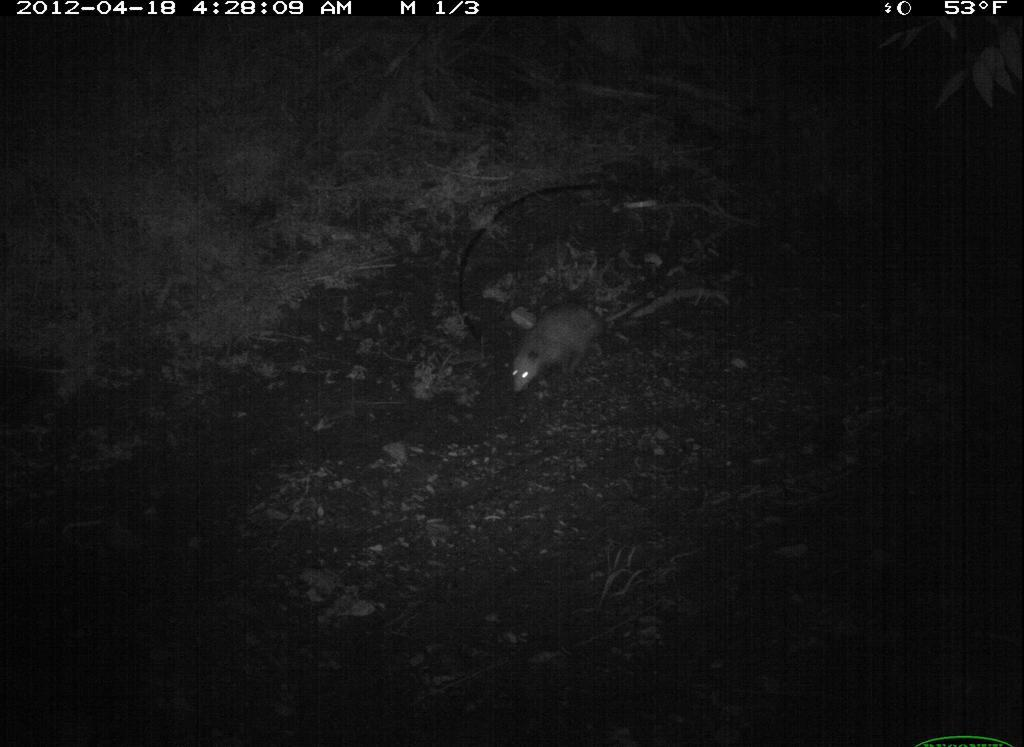opossum: (497, 277, 679, 401)
